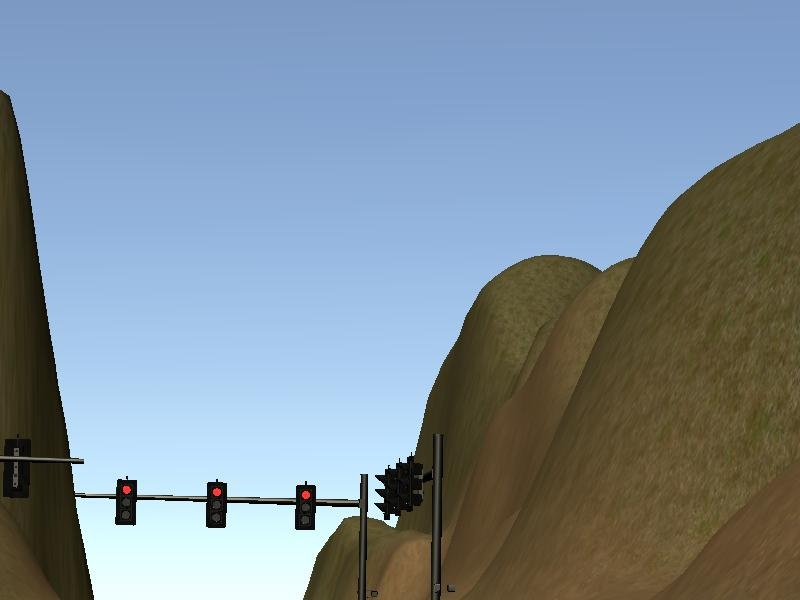Red: (116, 480, 136, 525), (296, 485, 316, 530), (206, 482, 226, 527)
